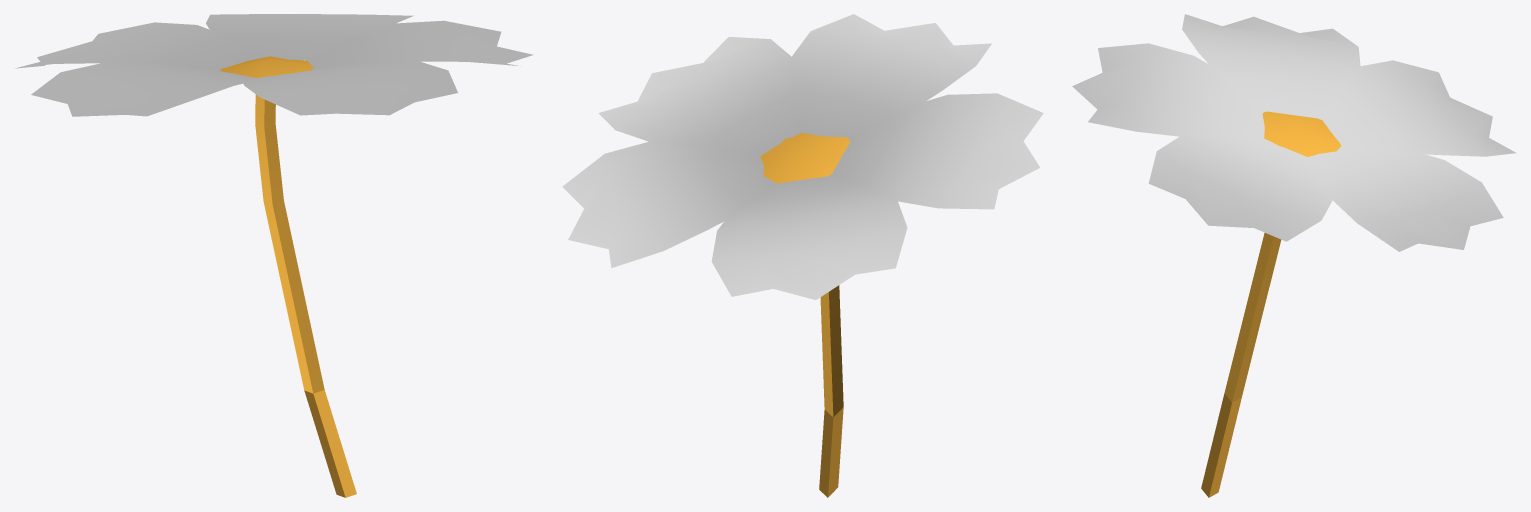
File: Flower_6.fbx
The picture shows the model from 3 angles, left to right: view 1: azimuth 30°, elevation 25°; view 2: azimuth 150°, elevation 25°; view 3: azimuth 270°, elevation 25°; orthographic projection. The views are drawn at different scales.
Visible parts, largest first — view 1: Object018; view 2: Object018; view 3: Object018.
Boxes of the visible parts, left/top/right/bottom form: Object018: left=15, top=14, right=533, bottom=497; Object018: left=562, top=14, right=1043, bottom=497; Object018: left=1072, top=14, right=1516, bottom=497.
Bounding box in the file's own units: 9.34 × 9.06 × 9.14.
